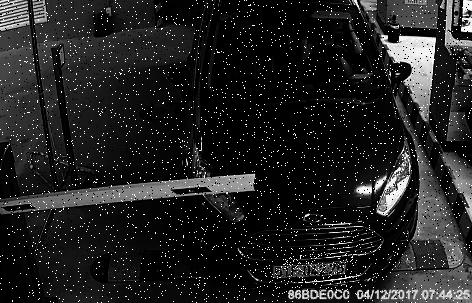License-plate: (264, 249, 355, 289)
